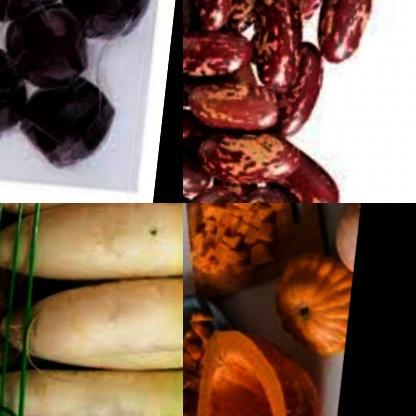beet: (16, 61, 124, 164), (8, 0, 94, 88), (0, 22, 36, 139), (49, 0, 150, 34)
fasol: (183, 0, 394, 203)
pumpkin: (195, 311, 334, 416), (271, 240, 359, 346), (187, 203, 290, 278), (183, 296, 224, 413), (329, 203, 365, 271)
redka: (12, 252, 183, 371), (0, 203, 183, 293), (0, 341, 183, 416), (83, 314, 183, 380), (0, 203, 183, 225)
